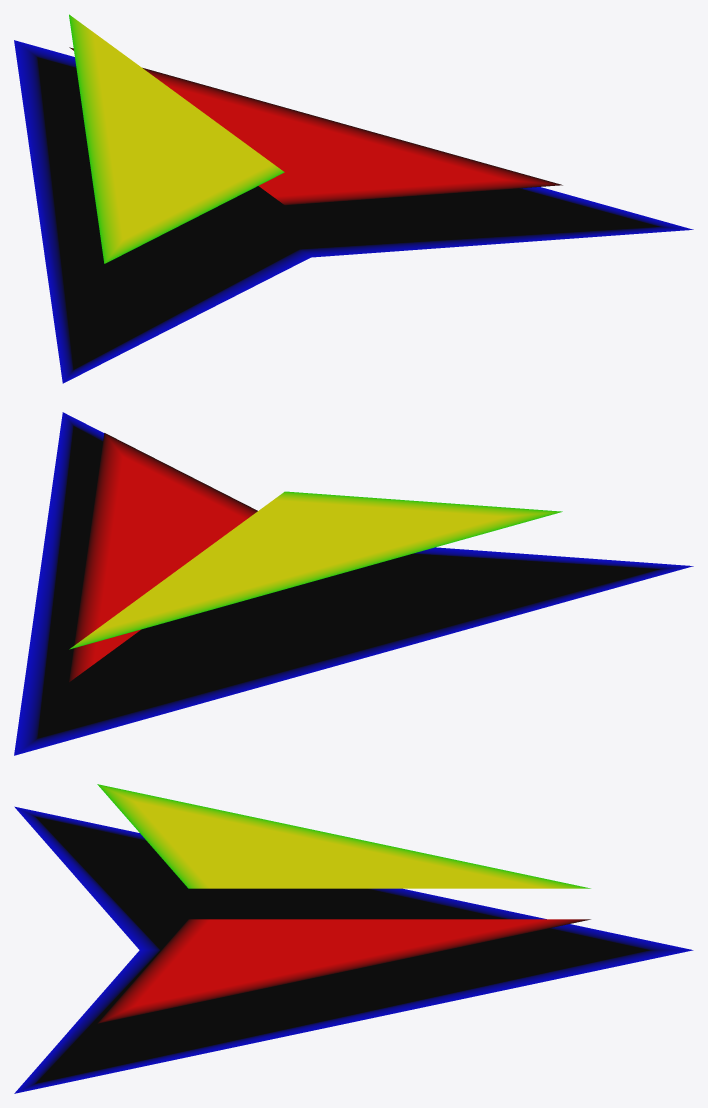
Rendered from Arrow.fbx.
3 views of the same model, one above another, from view 1: azimuth 30°, elevation 25°; view 2: azimuth 150°, elevation 25°; view 3: azimuth 270°, elevation 25° (orthographic). The views are drawn at different scales.
Visible parts, largest first — view 1: Arrow; view 2: Arrow; view 3: Arrow.
Part boxes in pixels (x1,y1,x2,y2): Arrow: (14,14,693,383); Arrow: (14,412,693,755); Arrow: (14,784,693,1093).
Bounding box in the file's own units: 200 × 200 × 20.
